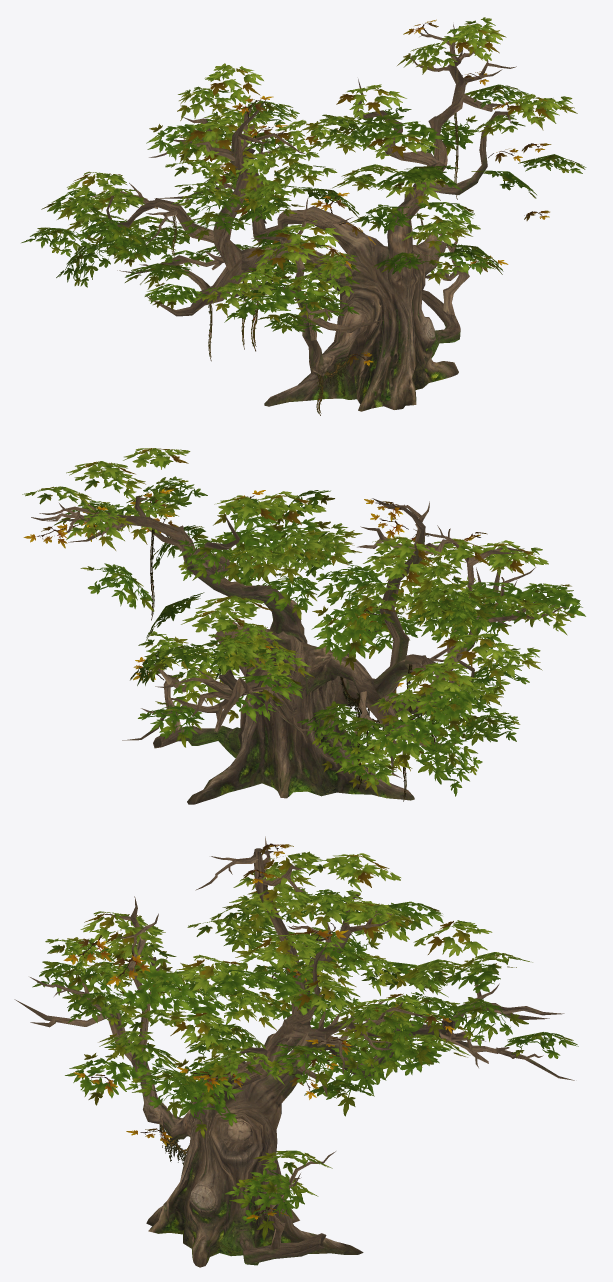
Rendered from q01a_tree_01.FBX.
3 renders of one model, top to bottom at view 1: azimuth 30°, elevation 25°; view 2: azimuth 150°, elevation 25°; view 3: azimuth 270°, elevation 25°, orthographic. The views are drawn at different scales.
Parts seen in each view (by area): view 1: q01a_tree_01_02, q01a_tree_01_01; view 2: q01a_tree_01_02, q01a_tree_01_01; view 3: q01a_tree_01_02, q01a_tree_01_01.
Boxes of the visible parts, x1,y1,x2,y2 form: q01a_tree_01_02: (21, 17, 586, 365); q01a_tree_01_01: (92, 24, 516, 415); q01a_tree_01_02: (22, 448, 585, 796); q01a_tree_01_01: (31, 496, 570, 804); q01a_tree_01_02: (32, 843, 578, 1240); q01a_tree_01_01: (14, 836, 574, 1267).
Bounding box in the file's own units: 1105 × 990 × 616.
